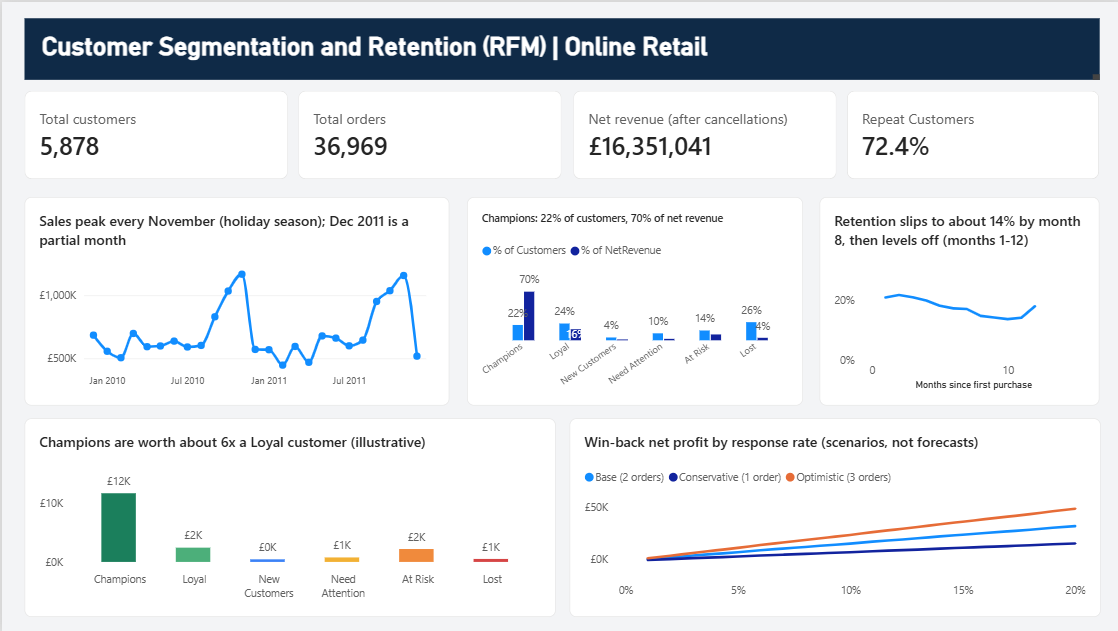

Layout of this report page (visuals, bound fields, positions):
{"tool":"powerbi","page":{"name":"Page 1","canvas":[1280,720],"ordinal":0},"visuals":[{"type":"textbox","title":"Customer Segmentation and Retention (RFM) | Online Retail","box":[25.7,18.6,1229,70],"z":0},{"type":"cardVisual","fields":{"Data":["kpi.Total customers"]},"box":[26,101,301,101],"z":1},{"type":"cardVisual","fields":{"Data":["campaign_breakeven.Total orders"]},"box":[339,101,301,101],"z":2},{"type":"cardVisual","fields":{"Data":["campaign_breakeven.Net revenue (after cancellations)"]},"box":[653,101,301,101],"z":3},{"type":"cardVisual","fields":{"Data":["Sum(kpi.RepeatCustomerPct)"]},"box":[966,101,288,101],"z":4},{"type":"lineChart","title":"Sales peak every November (holiday season); Dec 2011 is a partial month","fields":{"Category":["monthly_sales.MonthStart"],"Y":["Sum(monthly_sales.GrossSales)"]},"box":[25.7,222.9,485.7,238.6],"z":5},{"type":"clusteredColumnChart","title":"Champions: 22% of customers, 70% of net revenue","fields":{"Category":["segments.Segment"],"Y":["Sum(segments.PctCustomers)","Sum(segments.PctNetRevenue)"]},"box":[531.4,222.9,384.3,238.6],"z":6},{"type":"lineChart","title":"Retention slips to about 14% by month 8, then levels off (months 1-12)","fields":{"Category":["retention_curve.MonthIndex"],"Y":["Sum(retention_curve.AvgRetention)"]},"box":[934,223,320,238],"z":7},{"type":"clusteredColumnChart","title":"Champions are worth about 6x a Loyal customer (illustrative)","fields":{"Category":["segments.Segment"],"Y":["Avg(segments.CLV)"]},"box":[26,475,607,227],"z":8},{"type":"lineChart","title":"Win-back net profit by response rate (scenarios, not forecasts)","fields":{"Category":["campaign_sim.ResponseRate"],"Series":["campaign_sim.Scenario"],"Y":["Sum(campaign_sim.NetProfit)"]},"box":[648,475,607,227],"z":9}]}

Visuals, with their boxes in screenshot pixels (x1, y1, x2, y2), scaled from the page's 1280x720 canvas onto the 1118x631 screenshot:
"Customer Segmentation and Retention (RFM) | Online Retail" textbox: bbox(22, 16, 1096, 78)
cardVisual - kpi.Total customers: bbox(23, 89, 286, 177)
cardVisual - campaign_breakeven.Total orders: bbox(296, 89, 559, 177)
cardVisual - campaign_breakeven.Net revenue (after cancellations): bbox(570, 89, 833, 177)
cardVisual - Sum(kpi.RepeatCustomerPct): bbox(844, 89, 1095, 177)
"Sales peak every November (holiday season); Dec 2011 is a partial month" lineChart: bbox(22, 195, 447, 404)
"Champions: 22% of customers, 70% of net revenue" clusteredColumnChart: bbox(464, 195, 800, 404)
"Retention slips to about 14% by month 8, then levels off (months 1-12)" lineChart: bbox(816, 195, 1095, 404)
"Champions are worth about 6x a Loyal customer (illustrative)" clusteredColumnChart: bbox(23, 416, 553, 615)
"Win-back net profit by response rate (scenarios, not forecasts)" lineChart: bbox(566, 416, 1096, 615)
